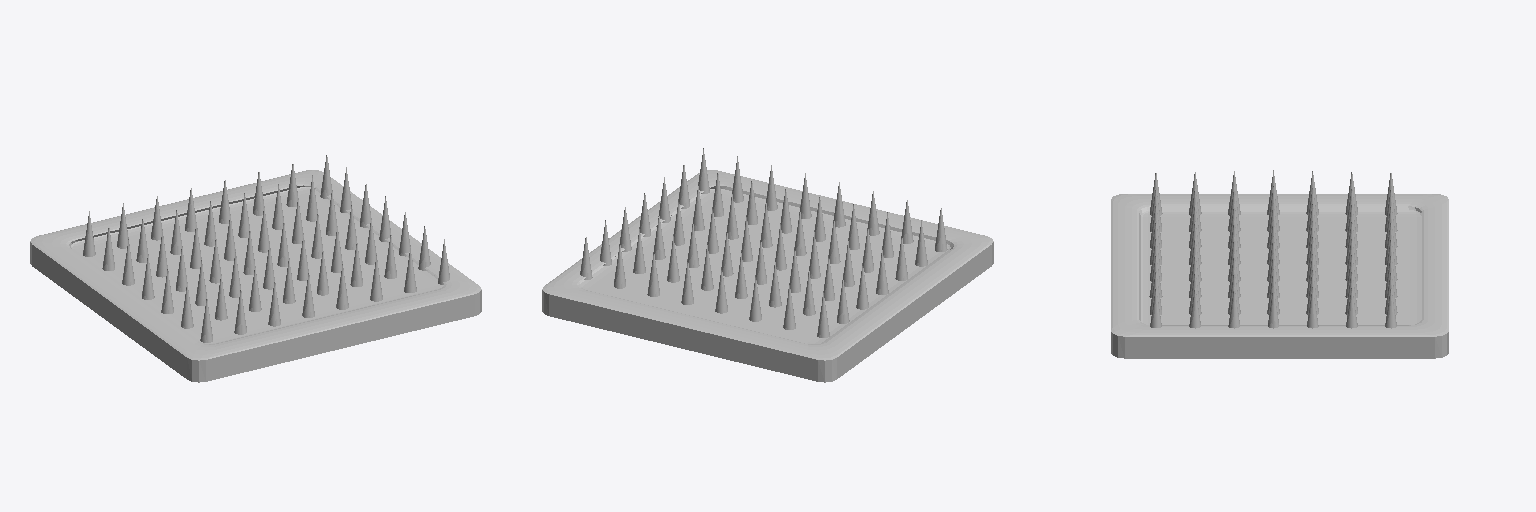
Rendered from spike_trap.obj.
The picture shows the model from 3 angles: view 1: azimuth 30°, elevation 25°; view 2: azimuth 150°, elevation 25°; view 3: azimuth 270°, elevation 25°; orthographic projection.
Parts seen in each view (by area): view 1: Cube_Cube.001, Cone; view 2: Cube_Cube.001, Cone; view 3: Cube_Cube.001, Cone.
Boxes of the visible parts, <box> form: Cube_Cube.001: <box>30,170,481,382</box>; Cone: <box>83,155,449,342</box>; Cube_Cube.001: <box>542,170,993,382</box>; Cone: <box>580,148,947,337</box>; Cube_Cube.001: <box>1111,194,1448,358</box>; Cone: <box>1149,170,1397,328</box>.
Size of the model in its own units: 2 by 0.4189 by 2.